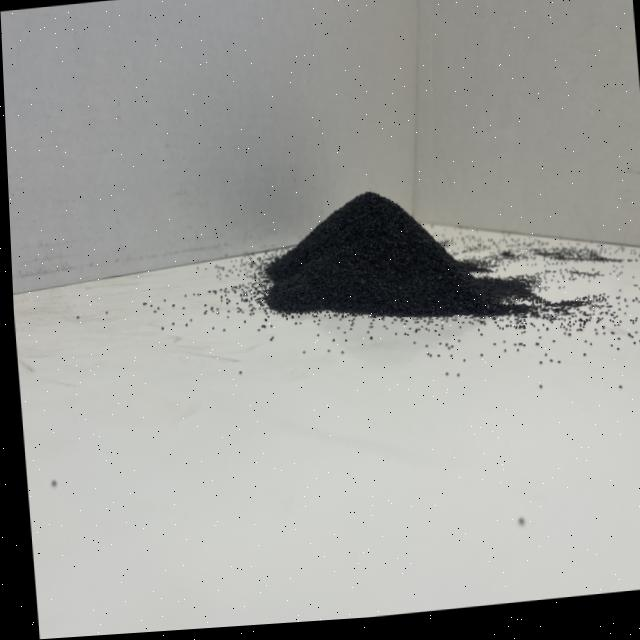Poppy Seeds: (245, 146, 550, 372)
